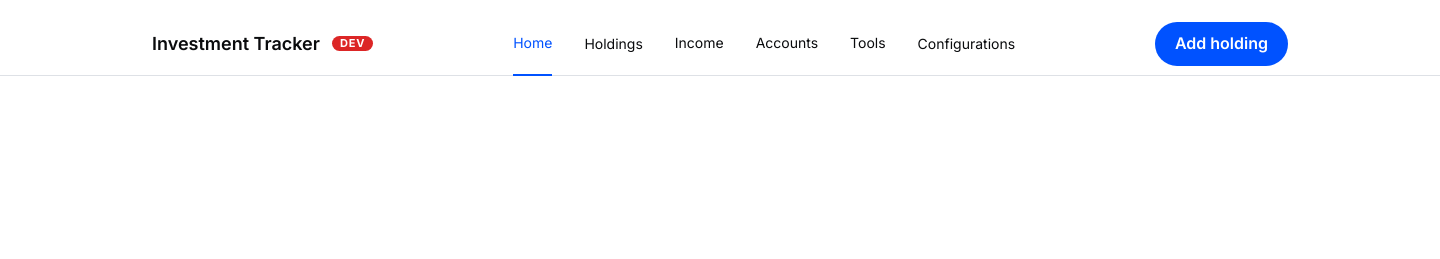
TopNav responsive behavior › includes Currency Quotes in configurations submenu
Hover over the list item "Configurations": (966, 44) x1=918 y1=12 x2=1015 y2=76
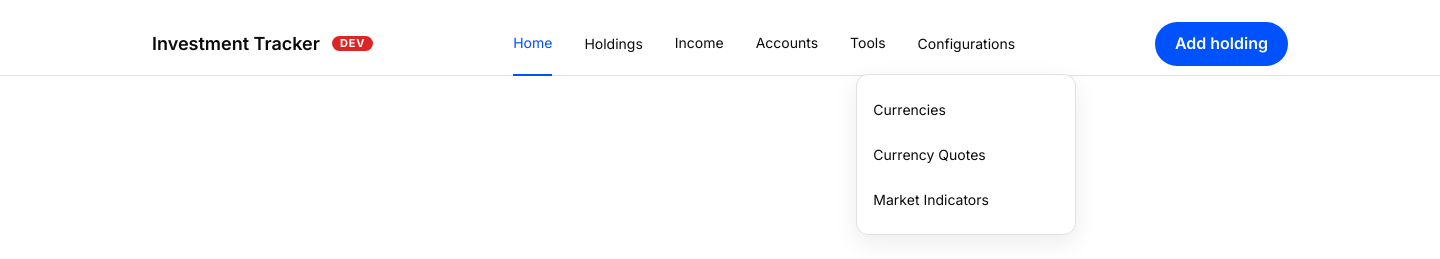
Expected: the menu with id "configurations-submenu" is shown, x1=856 y1=74 x2=1076 y2=234
Expected: the menu item to "/currencies/quotes" reads "Currency Quotes", x1=873 y1=146 x2=986 y2=162
